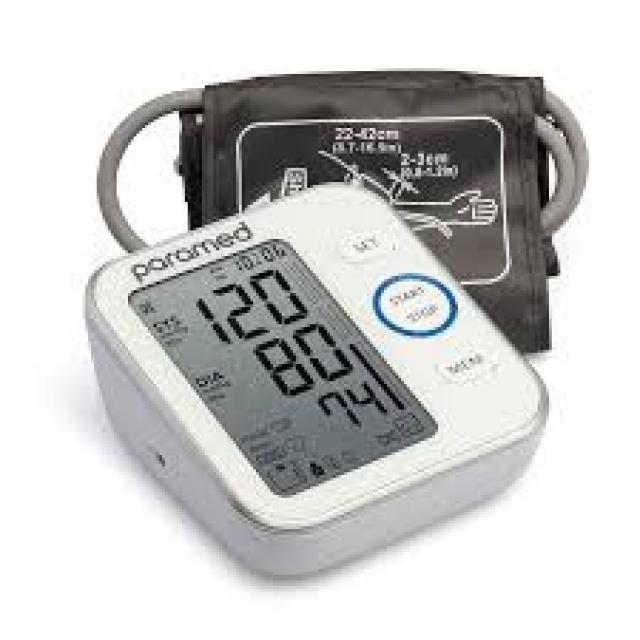dia: (243, 307, 364, 414)
pul: (308, 369, 398, 446)
ssd: (117, 196, 444, 538)
sys: (183, 248, 311, 354)
